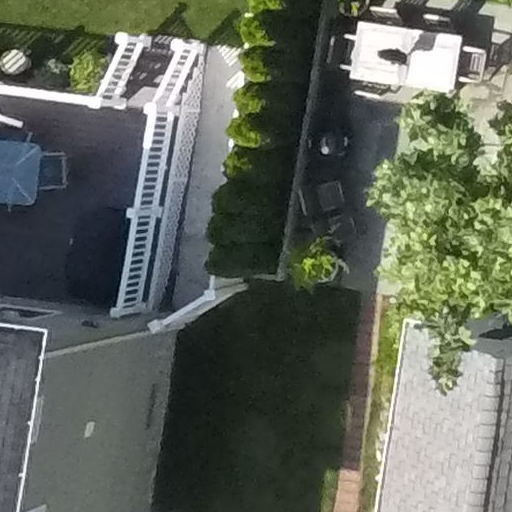chair: (292, 171, 350, 217), (460, 36, 490, 90)
container: (298, 241, 345, 287)
porch: (1, 13, 208, 296)
pot: (292, 242, 340, 290)
table: (339, 16, 463, 97)
